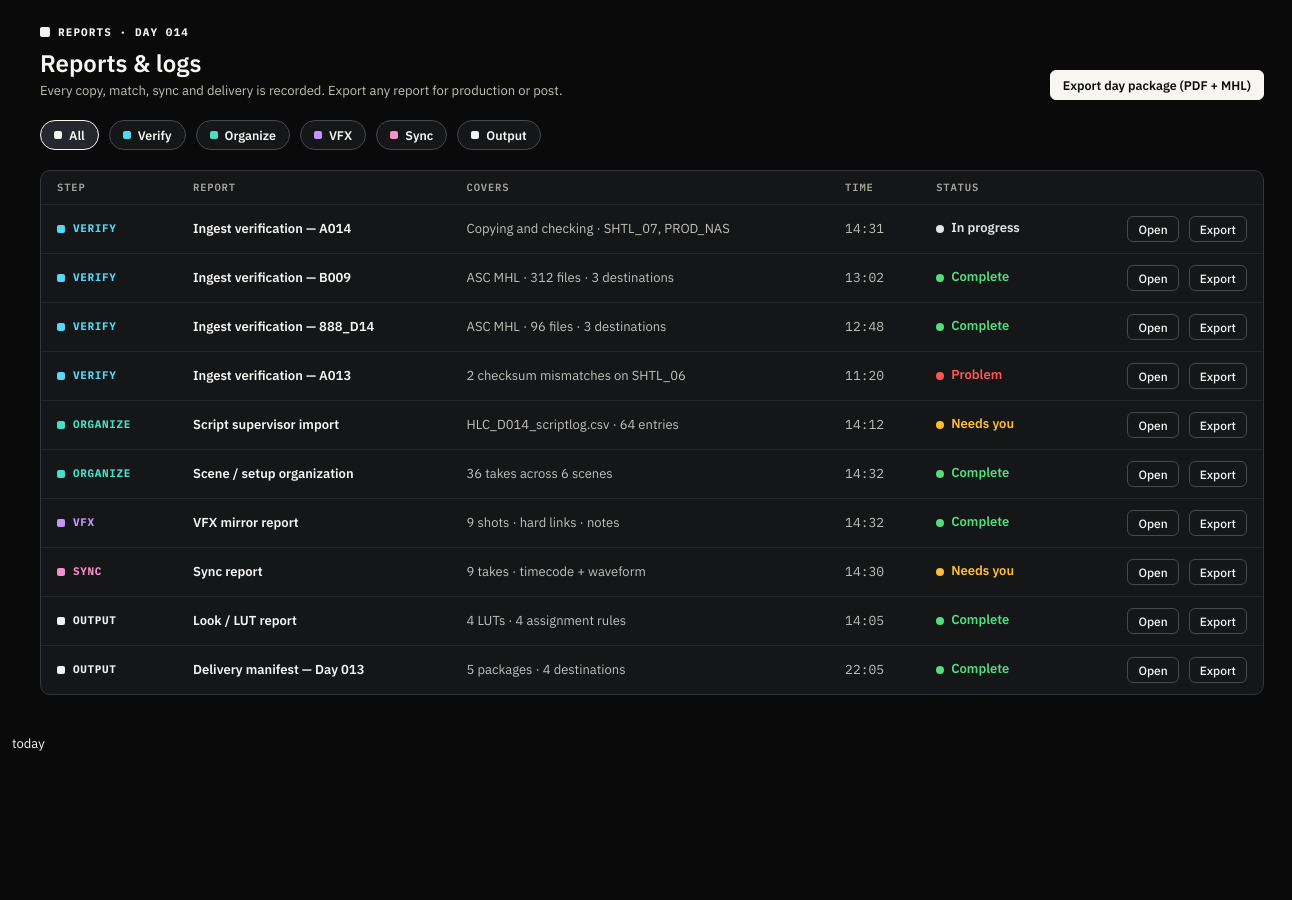
Scenario: Reports › filters by step and opens the source screen
Click the button "VFX".
click(333, 136)  # box [300, 120, 366, 150]
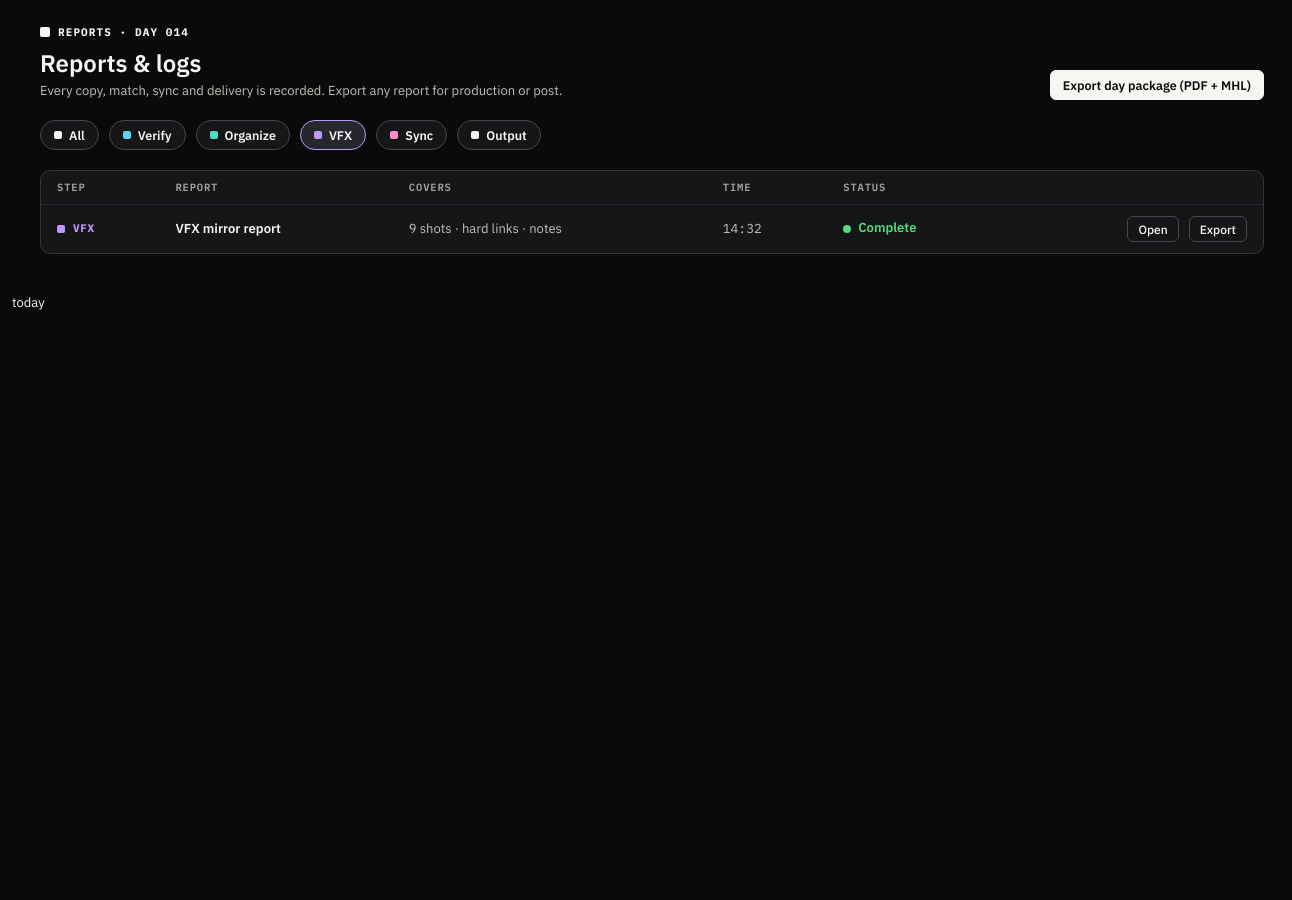
Expected: the number of rows is 2, [41, 172, 1263, 205]; [41, 205, 1263, 253]
Click the button with aria-label "Open VFX mirror report".
click(1153, 229)  # box [1127, 216, 1179, 242]
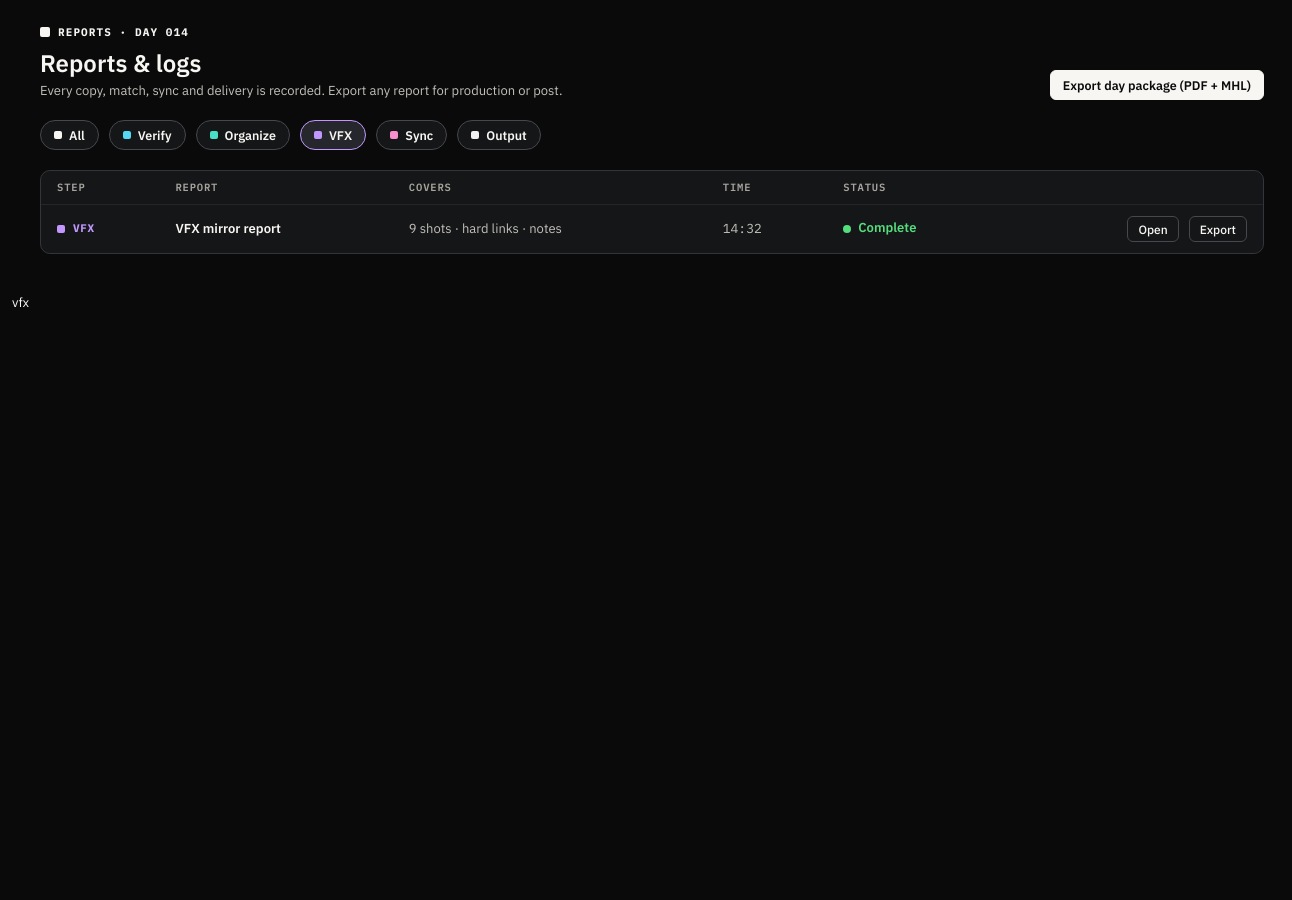
Expected: the text with test id "where" reads "vfx", [12, 294, 29, 311]
